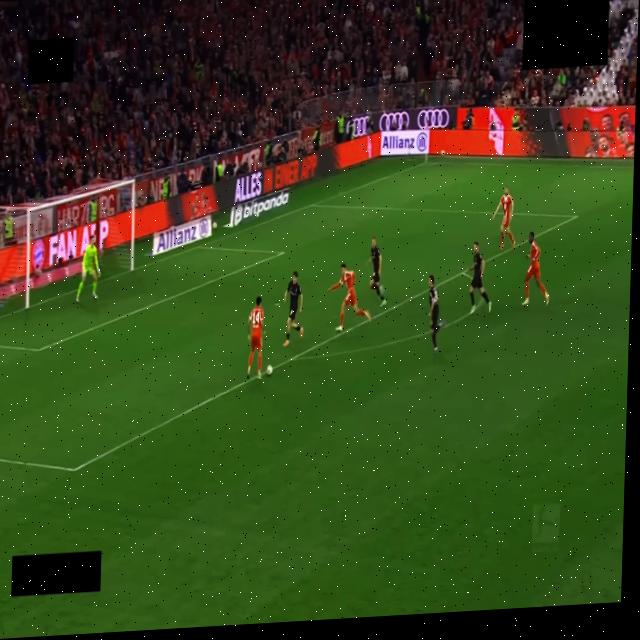ball: (266, 365, 273, 375)
player: (329, 264, 371, 331), (523, 232, 549, 305), (76, 235, 100, 302), (469, 242, 491, 313), (283, 271, 303, 346), (247, 297, 264, 379), (493, 187, 515, 249), (429, 276, 445, 353), (370, 237, 385, 306)
